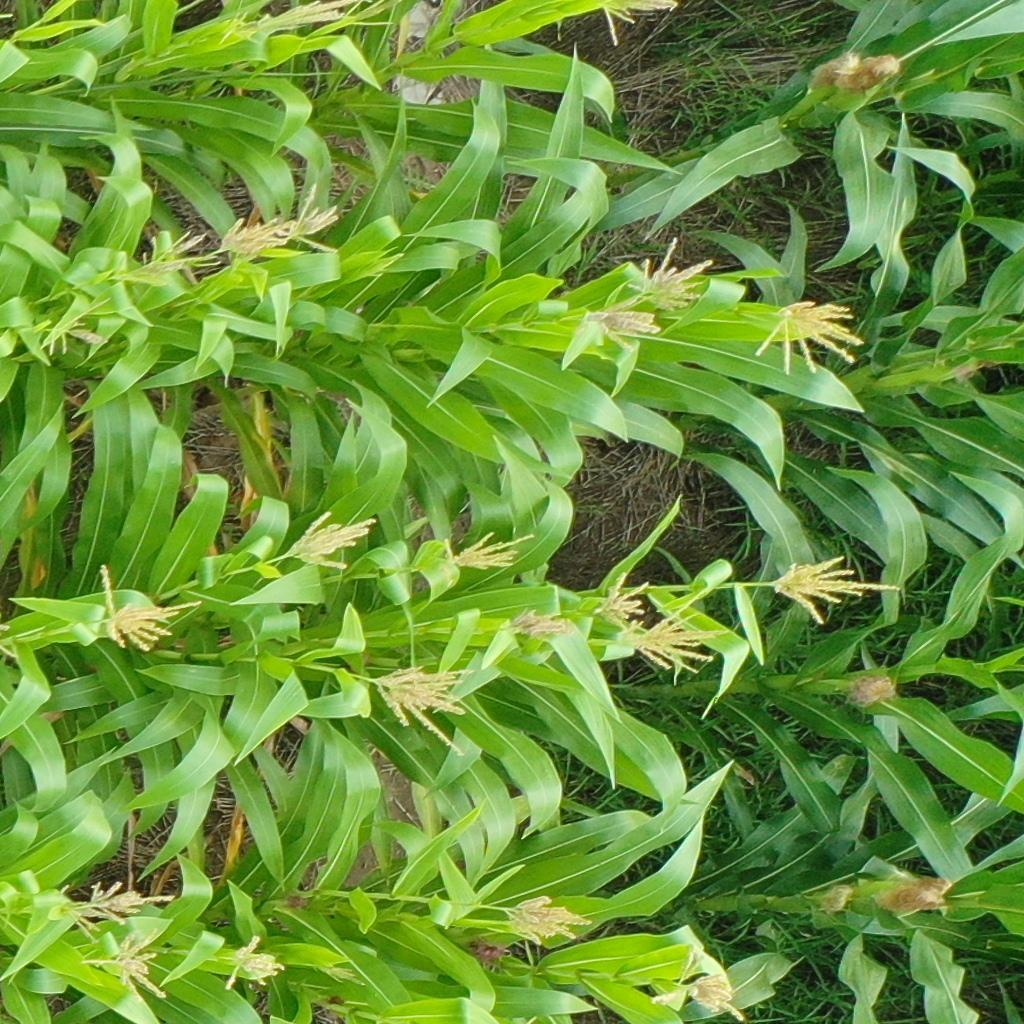Tassel: (372, 660, 474, 763), (619, 587, 733, 677), (770, 555, 903, 627), (96, 566, 202, 655), (752, 297, 864, 376), (74, 926, 172, 1005), (650, 945, 745, 1022), (623, 238, 714, 311), (114, 228, 216, 288), (281, 508, 376, 572), (502, 893, 592, 947), (38, 296, 113, 356), (440, 529, 536, 573), (579, 305, 661, 355), (88, 877, 176, 923), (287, 185, 344, 255), (221, 935, 288, 992), (602, 1, 681, 48), (217, 216, 292, 260), (258, 1, 358, 32), (595, 572, 648, 630), (499, 603, 574, 643), (59, 901, 111, 943), (345, 1, 407, 28), (218, 11, 267, 43), (318, 960, 369, 989)
